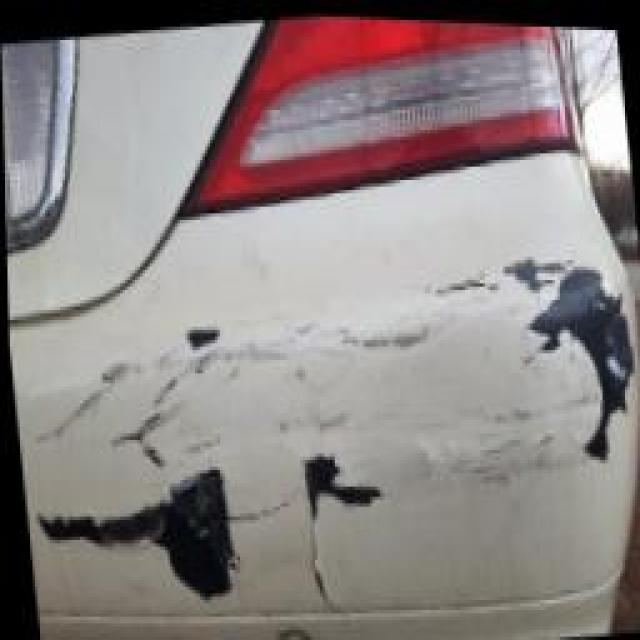Bumper: (7, 150, 639, 614)
